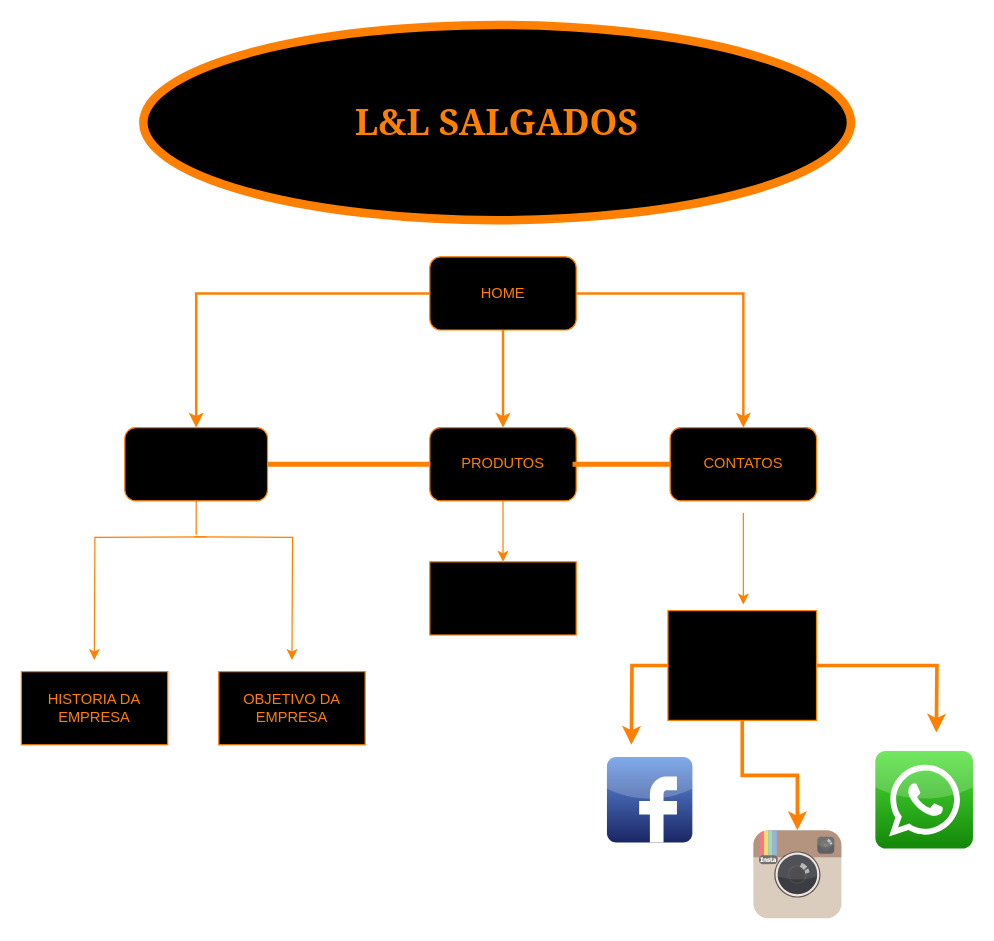
Image size: 994x941. Some labels were removed from this diagram. The shapes that lost their labels are listed below. From the top down, each one's centre as x and y in pixels, then its label:
At (196,463): "QUEM SOMOS".
At (502,598): "TIPOS DE SALGADO A VENDA (IMG)".
At (742,664): "INSTA FACE IFOOD NUMEROS DE TELEFONE".
